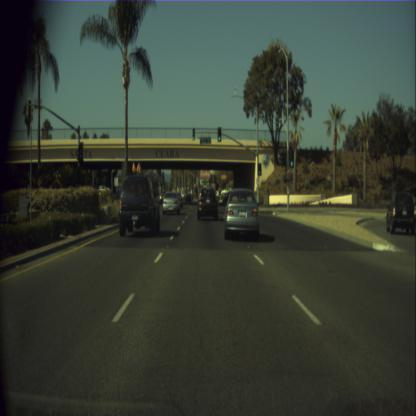Green: (288, 146, 294, 167), (217, 127, 221, 142), (257, 163, 261, 175), (192, 128, 195, 140)
